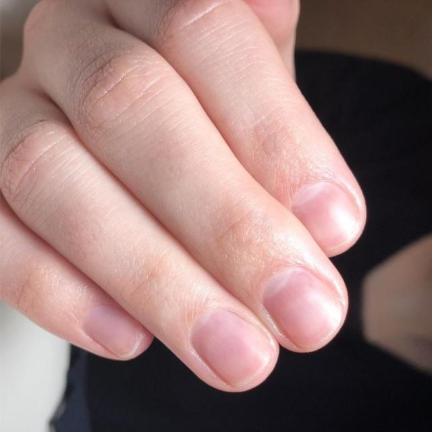Nail: (263, 267, 343, 347), (190, 309, 270, 387), (291, 182, 360, 252), (84, 305, 144, 358)
